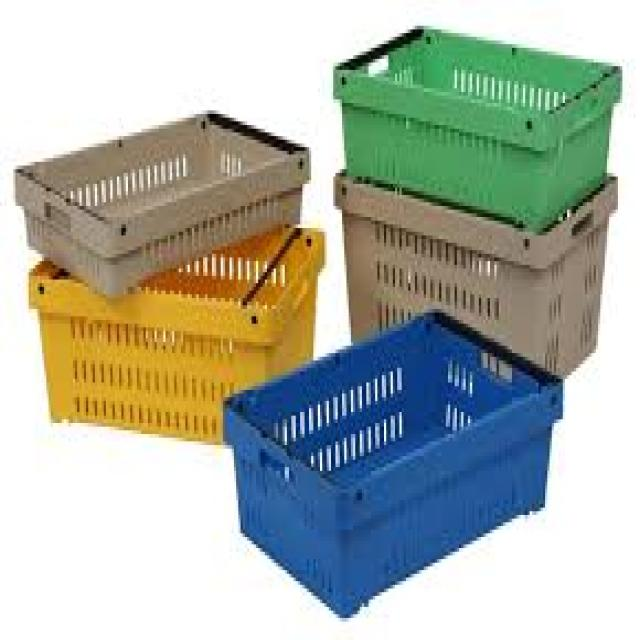basket: (183, 251, 613, 640), (4, 67, 333, 318), (23, 219, 351, 467), (314, 17, 629, 239), (333, 173, 621, 374)
